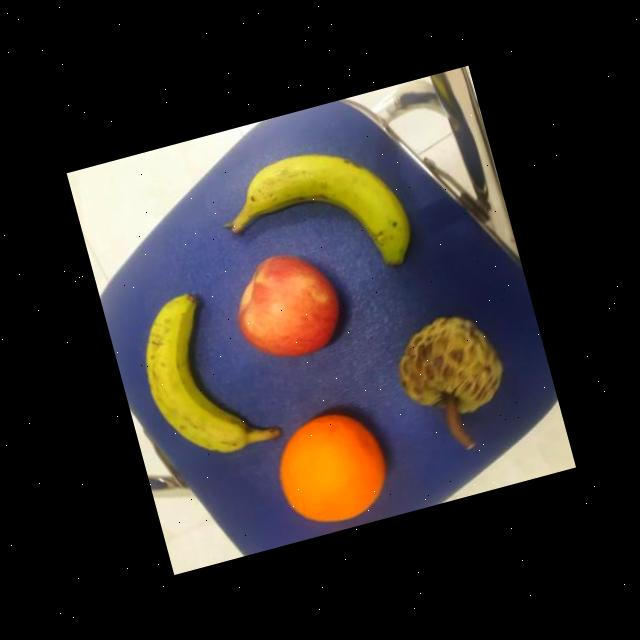Sakya fruit: (386, 302, 512, 429)
apple: (220, 236, 358, 372)
banana: (213, 126, 422, 305), (123, 283, 258, 467)
orange: (262, 394, 400, 534)
